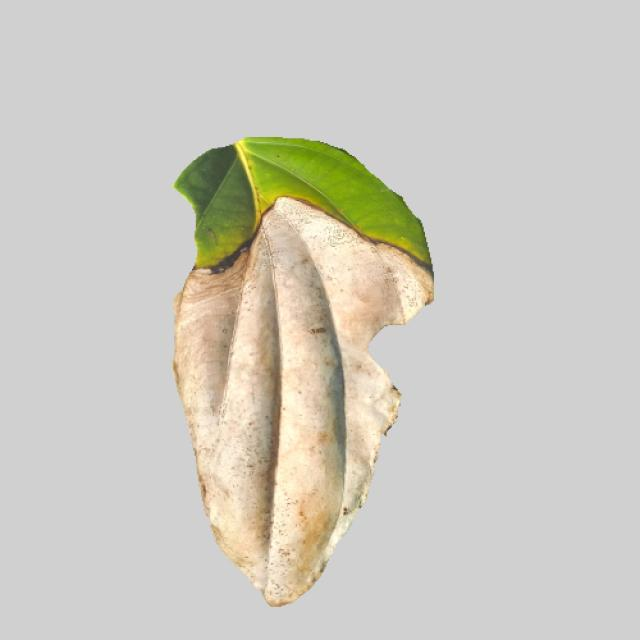leaf-blight: (151, 143, 438, 604)
